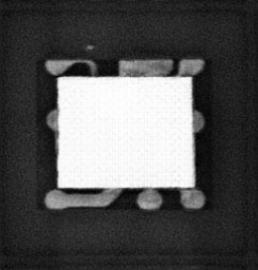DIE_INK: (85, 42, 94, 51)
